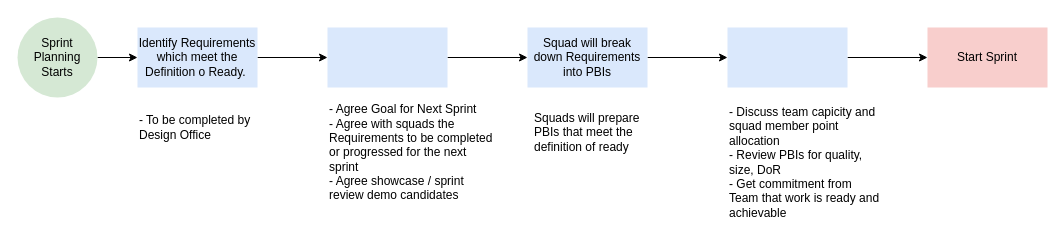
The diagram is 1064 pixels wide and 244 high, and some of its shapes have lost their labels. Each missing label, with the centre of its shape:
"Initial Requirements Discussion w/ Design Office and Squads" belongs at (387,57).
"Sprint Planning" belongs at (787,57).
